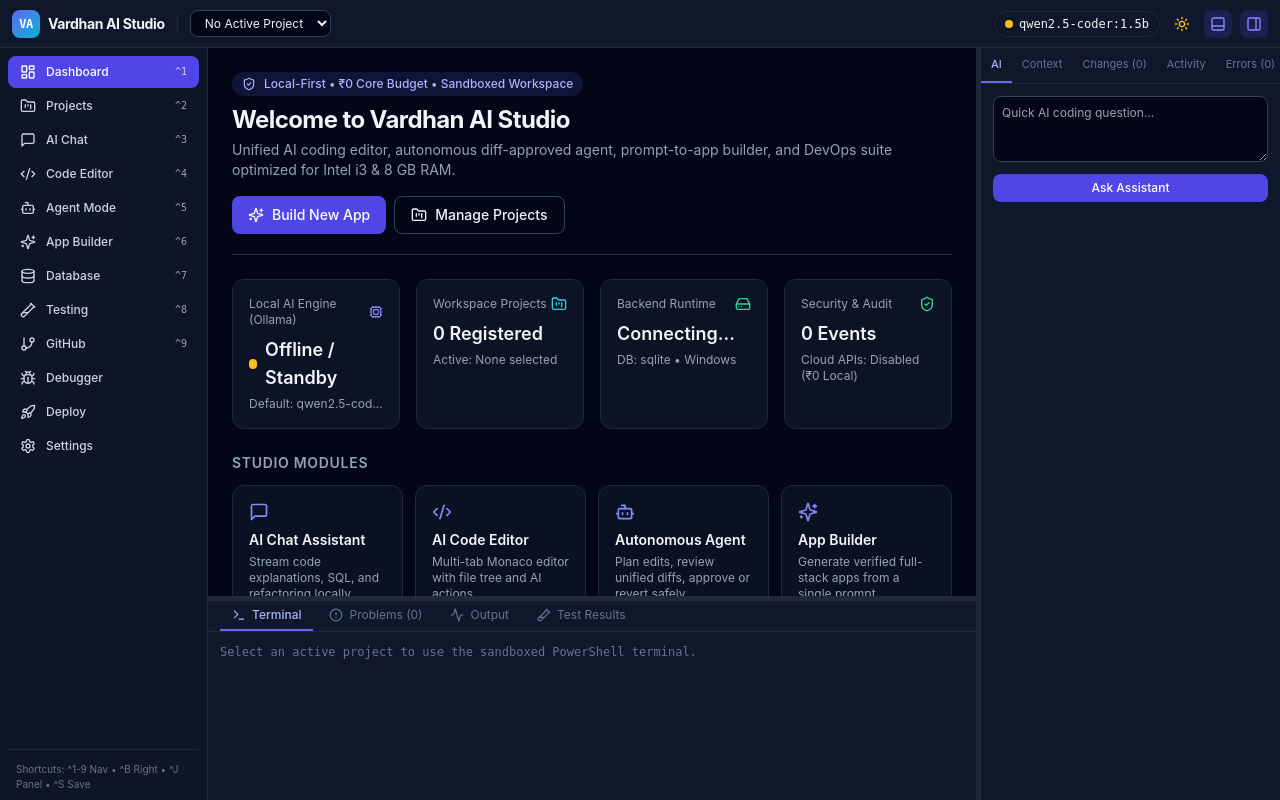
Test case: Vardhan AI Studio Frontend › toggles dark/light theme and bottom panel tabs
Click the button titled "Toggle Dark / Light Theme": (1182, 24) [1168,10,1196,38]
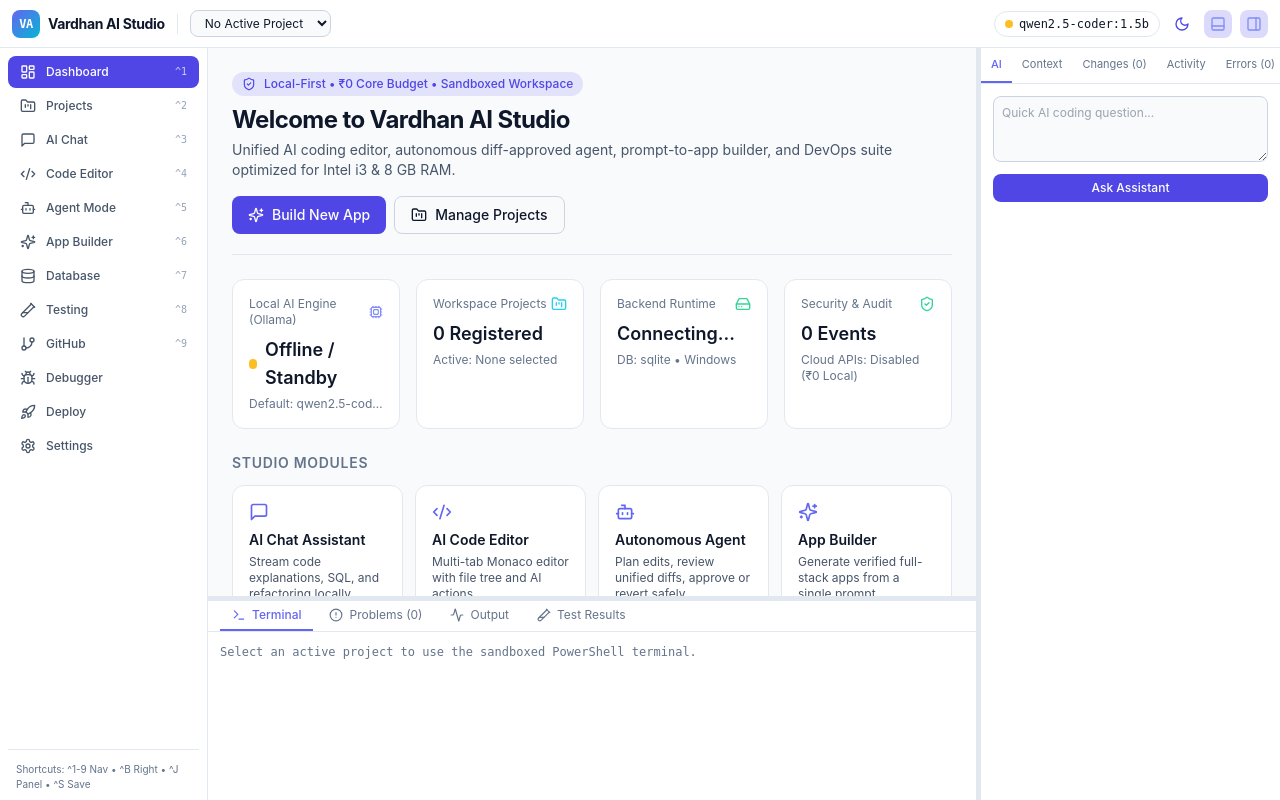
Click the button "Output": (480, 616) [438,601,521,631]
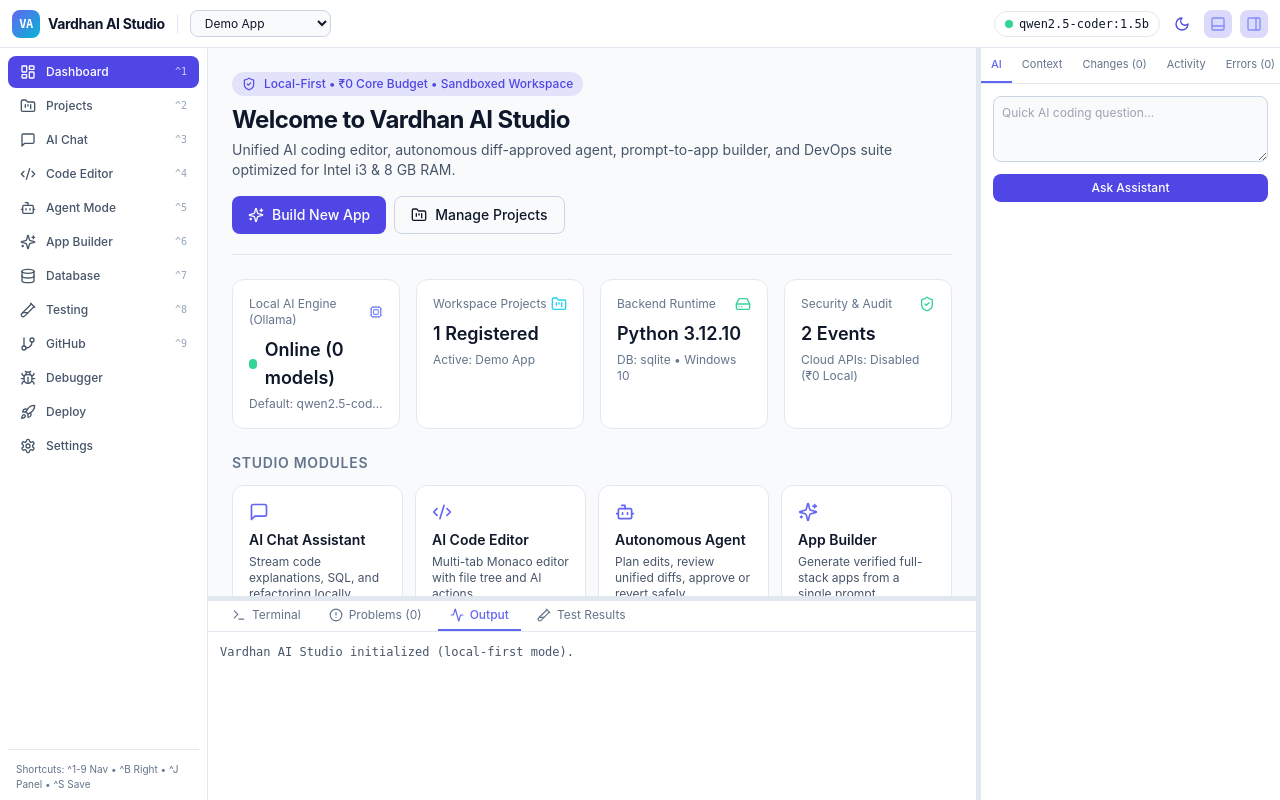
Expected: the text "Vardhan AI Studio initialized (local-first mode)." is shown, [220,645,574,659]
